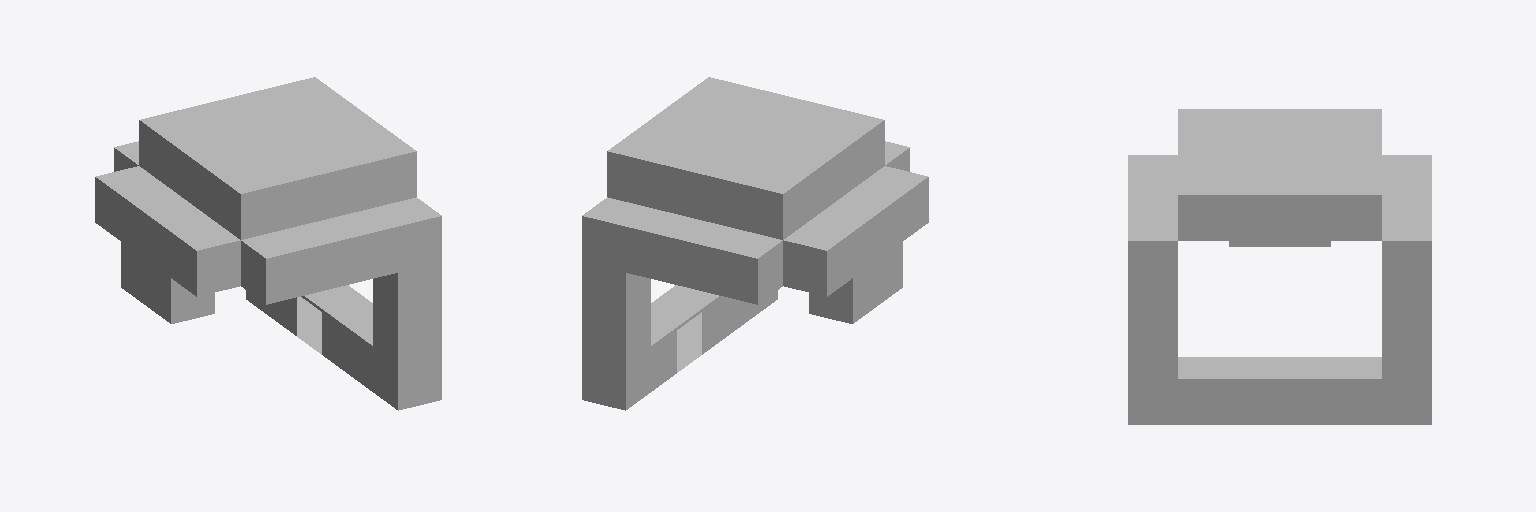
File: helmet_aquamarine.obj
3 views of the same model, side by side, from view 1: azimuth 30°, elevation 25°; view 2: azimuth 150°, elevation 25°; view 3: azimuth 270°, elevation 25° (orthographic).
Visible parts, largest first — view 1: Cube.323_Cube.046; view 2: Cube.323_Cube.046; view 3: Cube.323_Cube.046.
Part boxes in pixels (x1,y1,x2,y2): Cube.323_Cube.046: (95,77,441,410); Cube.323_Cube.046: (582,77,928,410); Cube.323_Cube.046: (1128,109,1431,424).
Size of the model in its own units: 1.84 by 1.84 by 2.2.